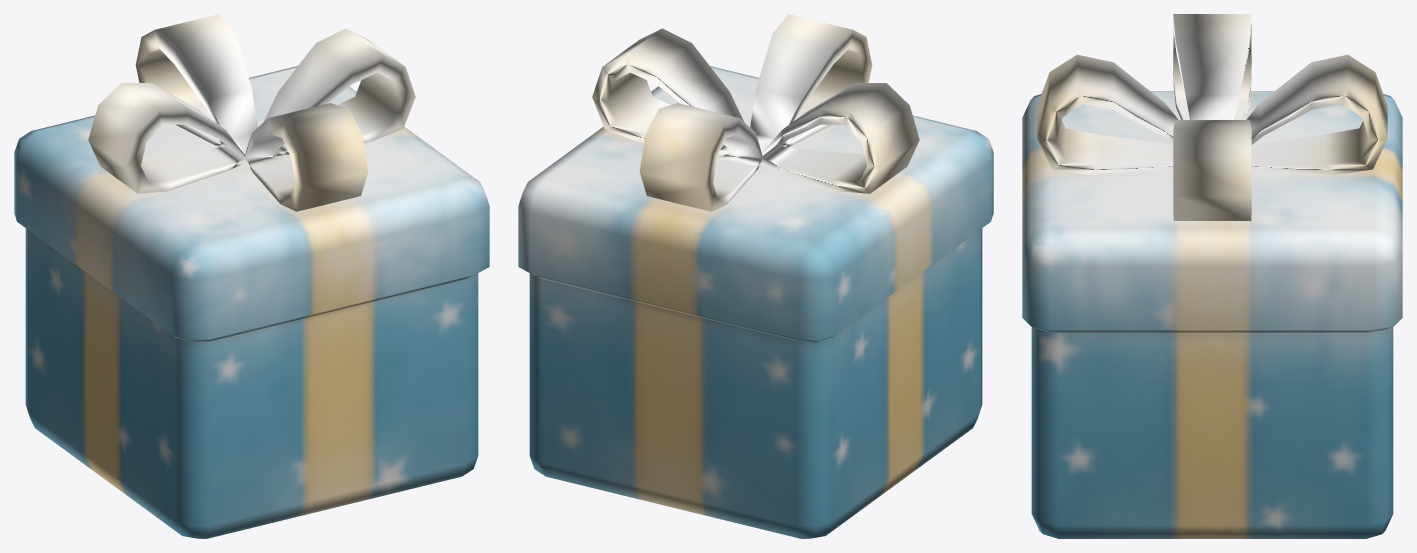
Rendered from Gift_C.fbx.
The picture shows the model from 3 angles, left to right: view 1: azimuth 30°, elevation 25°; view 2: azimuth 150°, elevation 25°; view 3: azimuth 270°, elevation 25°; orthographic projection. The views are drawn at different scales.
Visible parts, largest first — view 1: GiftC; view 2: GiftC; view 3: GiftC.
Boxes of the visible parts, bbox=[...] form: GiftC: bbox=[14, 14, 489, 538]; GiftC: bbox=[518, 14, 993, 538]; GiftC: bbox=[1022, 14, 1402, 538].
Bounding box in the file's own units: 46.83 × 54.58 × 46.83.
Materials: 1 (1 with a texture image).
